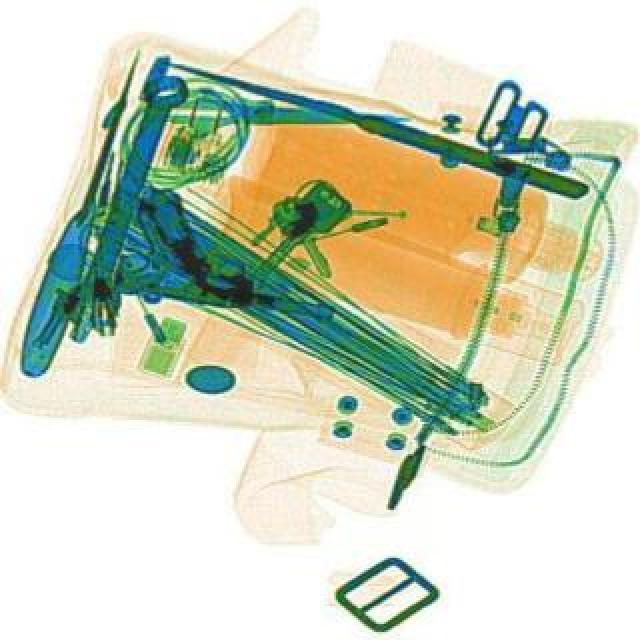gun: (112, 182, 344, 322)
knife: (154, 48, 586, 200), (6, 46, 162, 378), (164, 86, 412, 138)
scissors: (50, 66, 194, 330)
